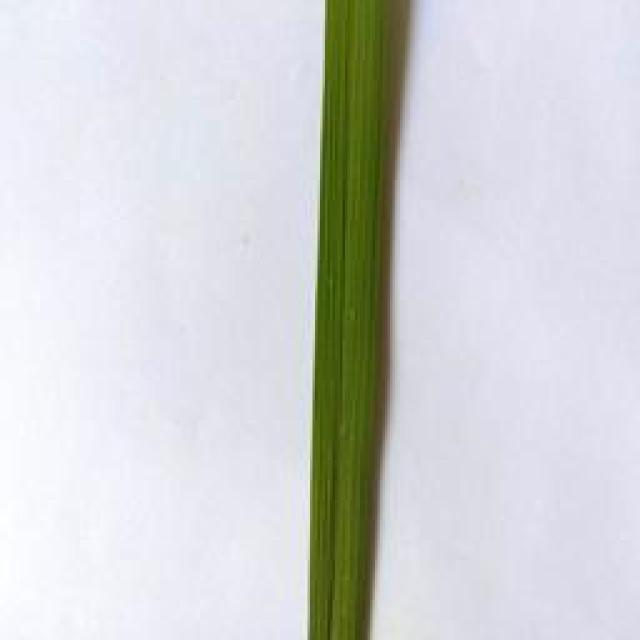Healthy-Plant: (307, 0, 392, 640)
